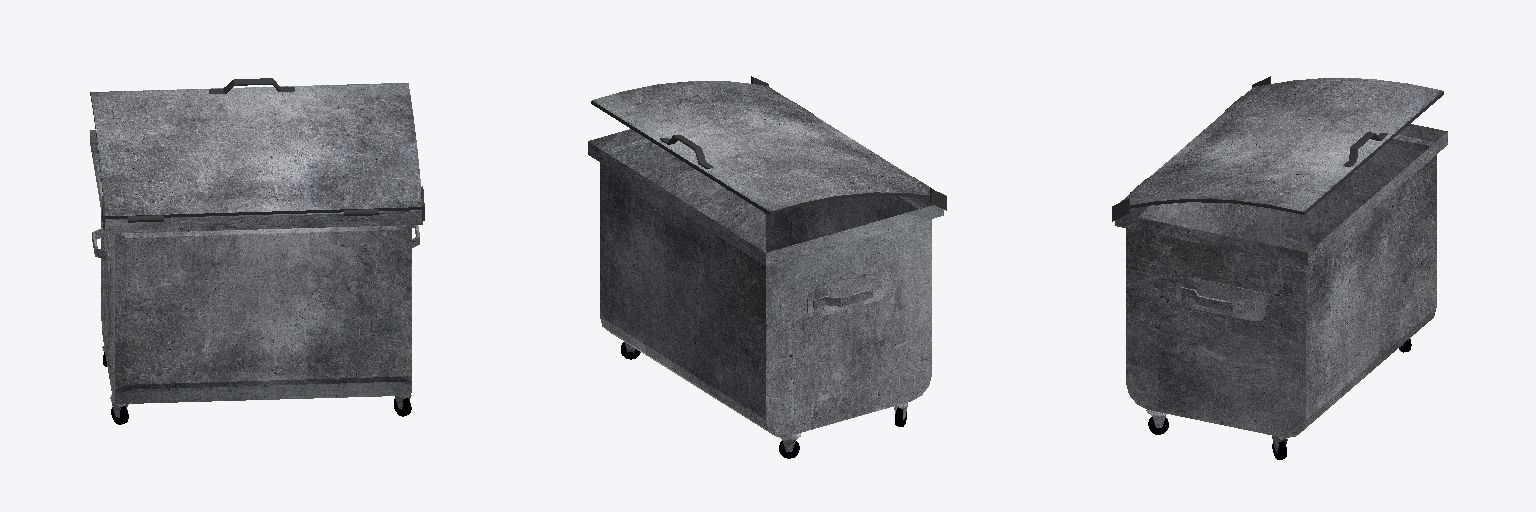
The picture shows the model from 3 angles: view 1: azimuth 30°, elevation 25°; view 2: azimuth 150°, elevation 25°; view 3: azimuth 270°, elevation 25°; orthographic projection.
Parts seen in each view (by area): view 1: cardboar_box_001.001; view 2: cardboar_box_001.001; view 3: cardboar_box_001.001.
Boxes of the visible parts, x1,y1,x2,y2 form: cardboar_box_001.001: [90, 78, 424, 424]; cardboar_box_001.001: [588, 76, 946, 458]; cardboar_box_001.001: [1112, 76, 1447, 459].
Size of the model in its own units: 1.83 by 1.43 by 1.6.
Materials: 2 (1 with a texture image).